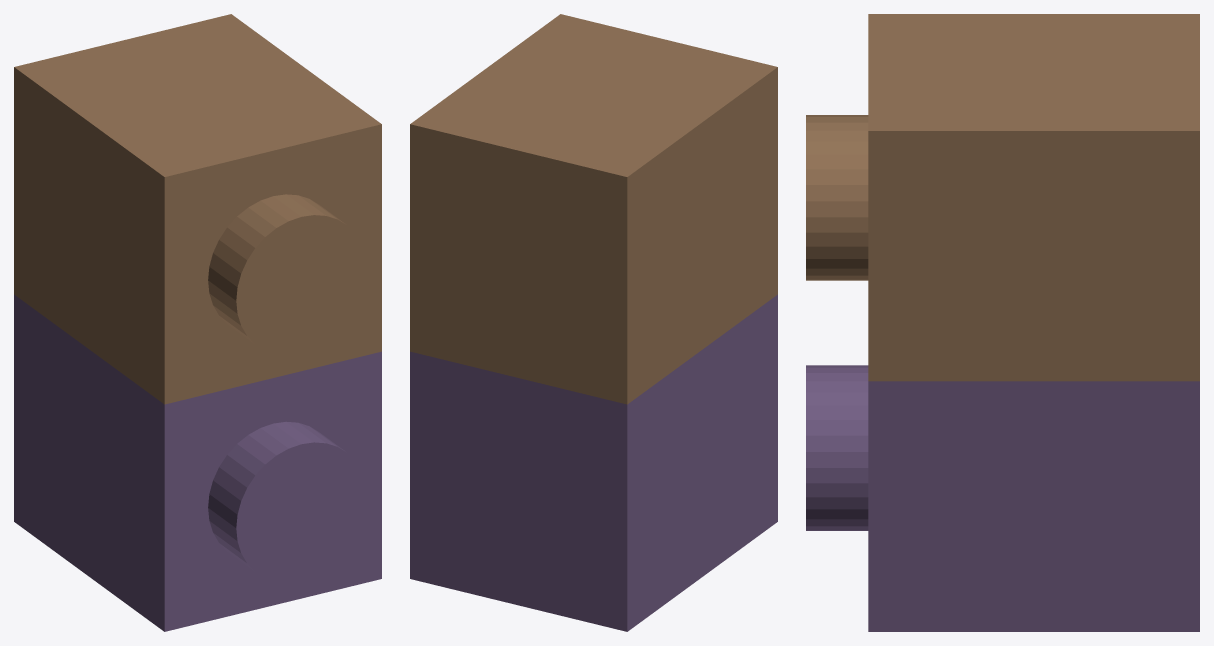
The model's file is current.glb.
3 views of the same model, side by side, from view 1: azimuth 30°, elevation 25°; view 2: azimuth 150°, elevation 25°; view 3: azimuth 270°, elevation 25° (orthographic). The views are drawn at different scales.
Visible parts, largest first — view 1: world; view 2: world; view 3: world.
Part boxes in pixels (bbox=[...]): world: bbox=[14, 14, 381, 631]; world: bbox=[410, 14, 777, 631]; world: bbox=[806, 14, 1199, 631].
Size of the model in its own units: 8 by 16 by 11.4.
